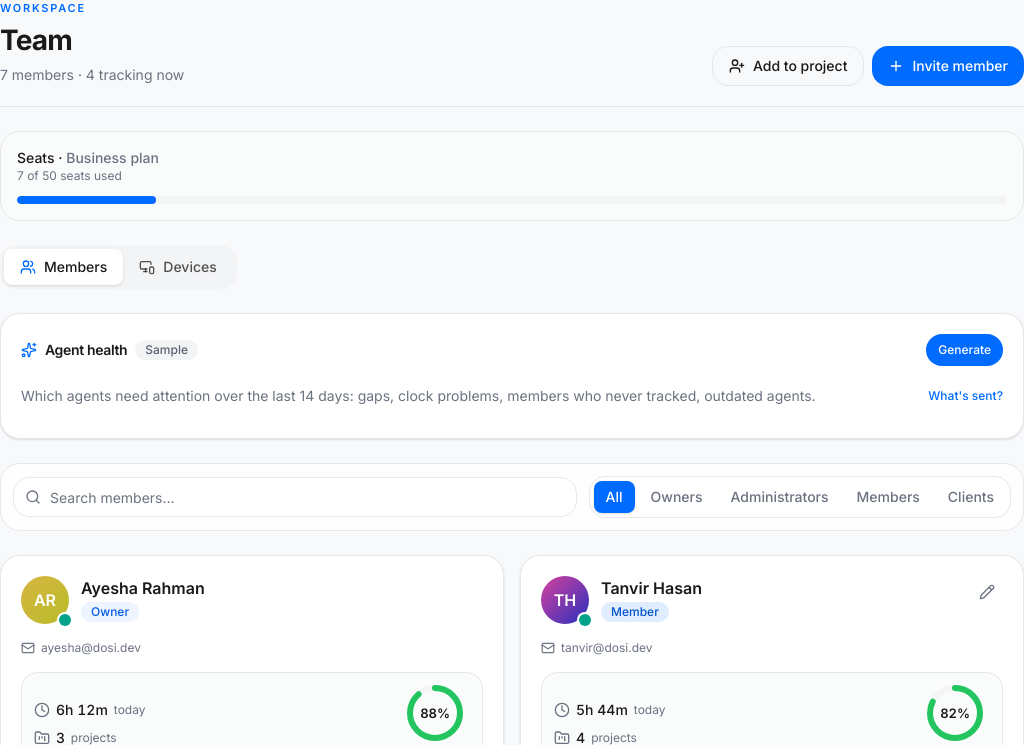
Test case: Agent health (team page) › sits above the roster for the owner and reviews the demo's agents with no network
Step 1. Click the button "Generate" → (965, 350), box left=926, top=334, right=1003, bottom=366
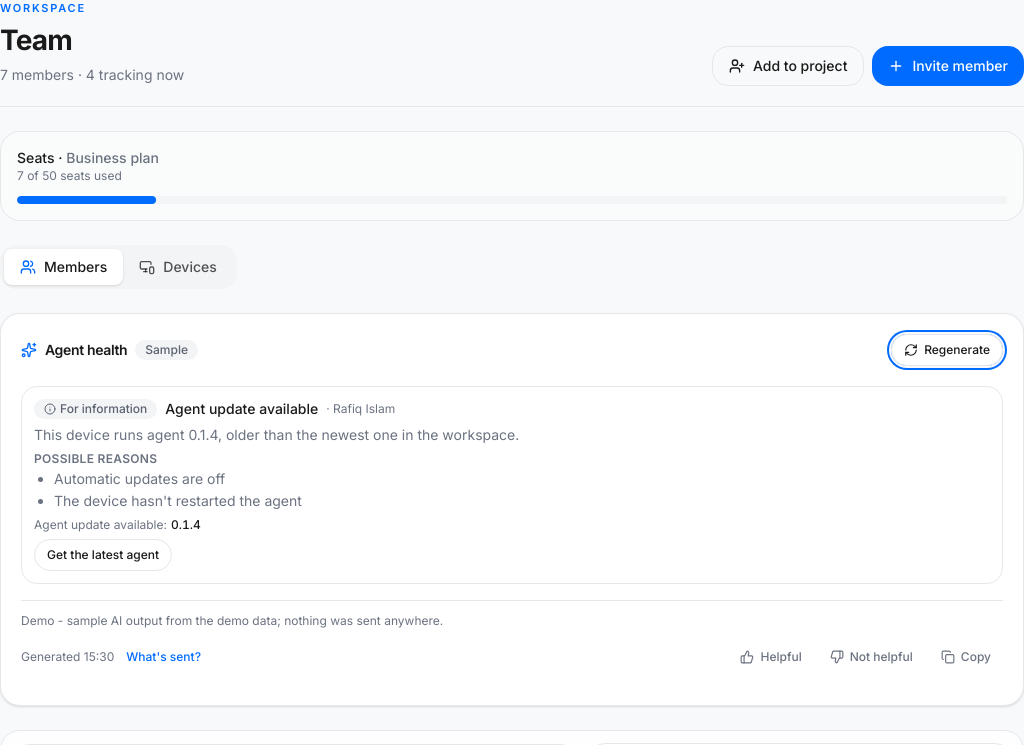
Expected: the text "Sample" is shown, left=135, top=340, right=198, bottom=360
Expected: the text "Demo - sample AI output" is shown, left=21, top=613, right=443, bottom=628
